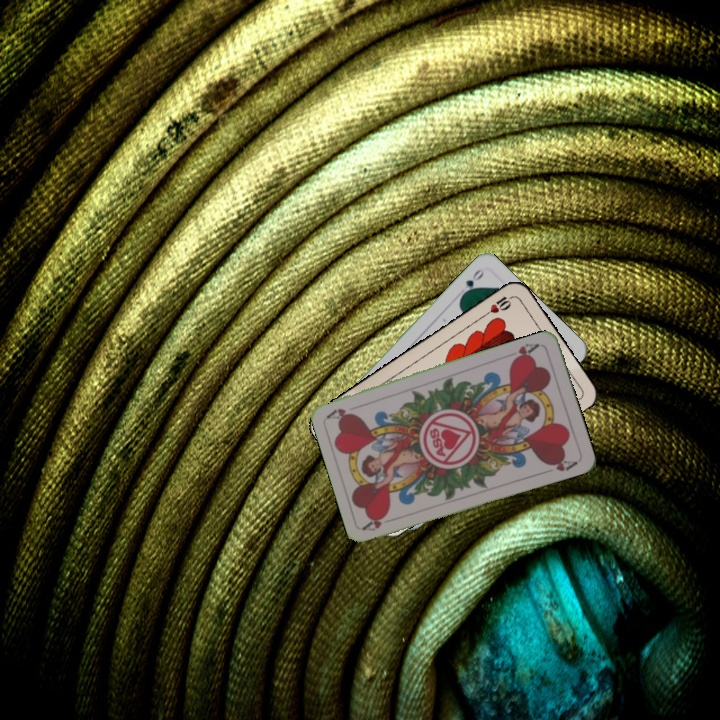GO: (457, 264, 487, 300)
H10: (479, 292, 515, 320)
HA: (360, 510, 400, 534), (507, 339, 542, 365)
